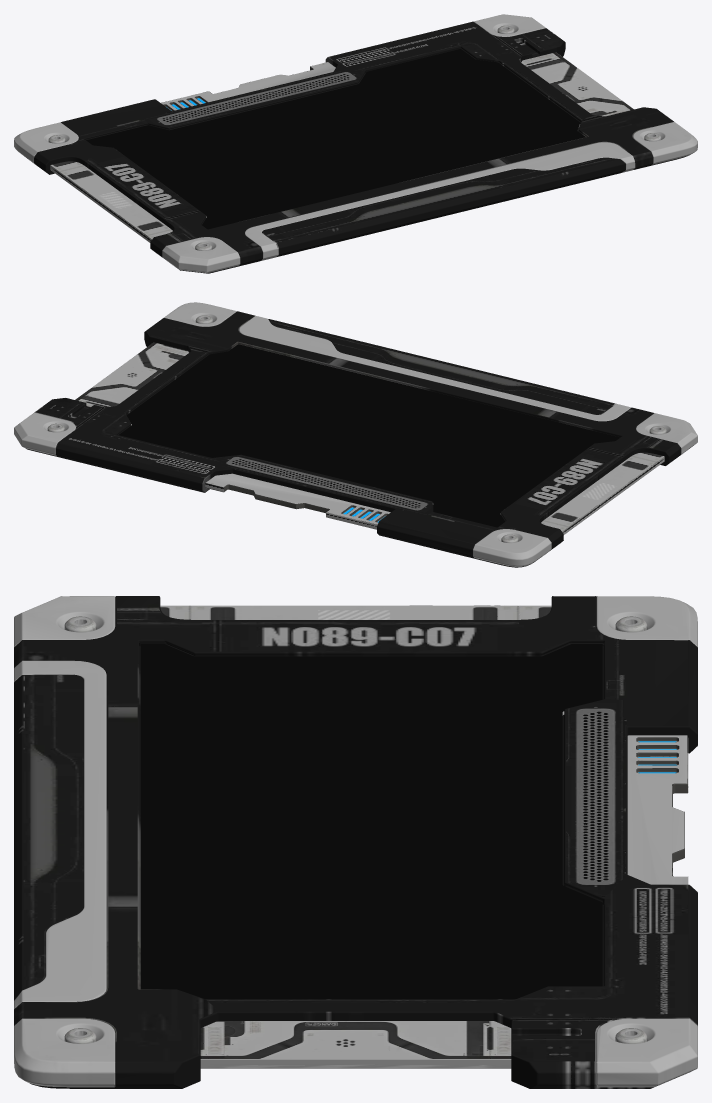
File: sci_fi_tablet.glb
The picture shows the model from 3 angles, top to bottom: view 1: azimuth 30°, elevation 25°; view 2: azimuth 150°, elevation 25°; view 3: azimuth 270°, elevation 25°; orthographic projection. The views are drawn at different scales.
Visible parts, largest first — view 1: Cube.006; view 2: Cube.006; view 3: Cube.006.
Part boxes in pixels (<box>): Cube.006: <box>14,14,697,273</box>; Cube.006: <box>14,302,697,567</box>; Cube.006: <box>14,596,697,1088</box>.
Size of the model in its own units: 3.6 by 0.1011 by 2.2.
5 materials, 3 textured.
